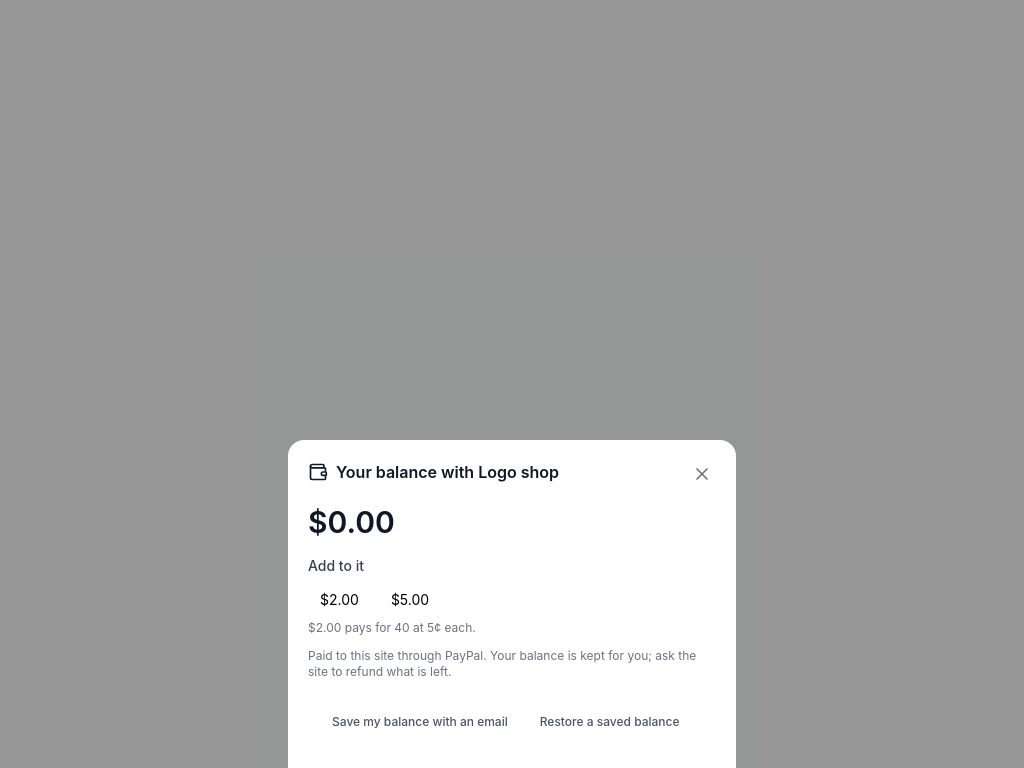
Test: tops up through PayPal: the chosen amount, captured, and the new balance read again
Check: the text with test id "wallet-balance" reads "$0.00", box [308, 504, 395, 540]
Click the radio button named "fl-wallet-package" at (410, 600), box [391, 591, 429, 608]
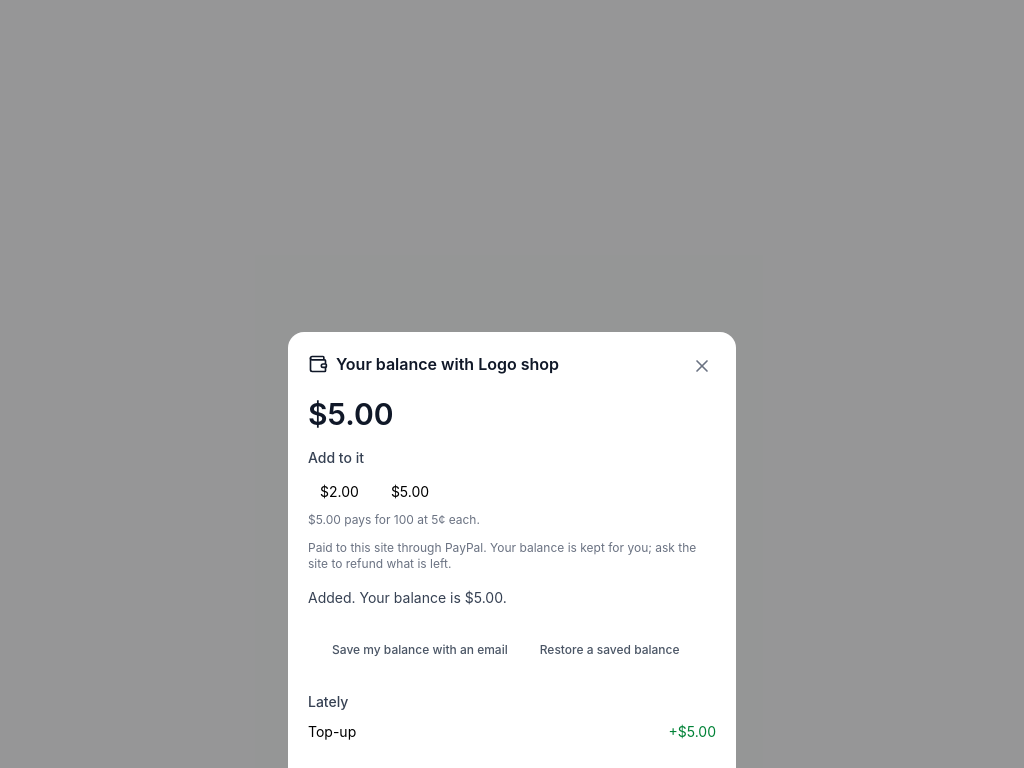
Check: the text with test id "wallet-balance" reads "$5.00", box [308, 396, 394, 432]
Check: the text "Top-up" is shown, box [308, 722, 356, 742]
